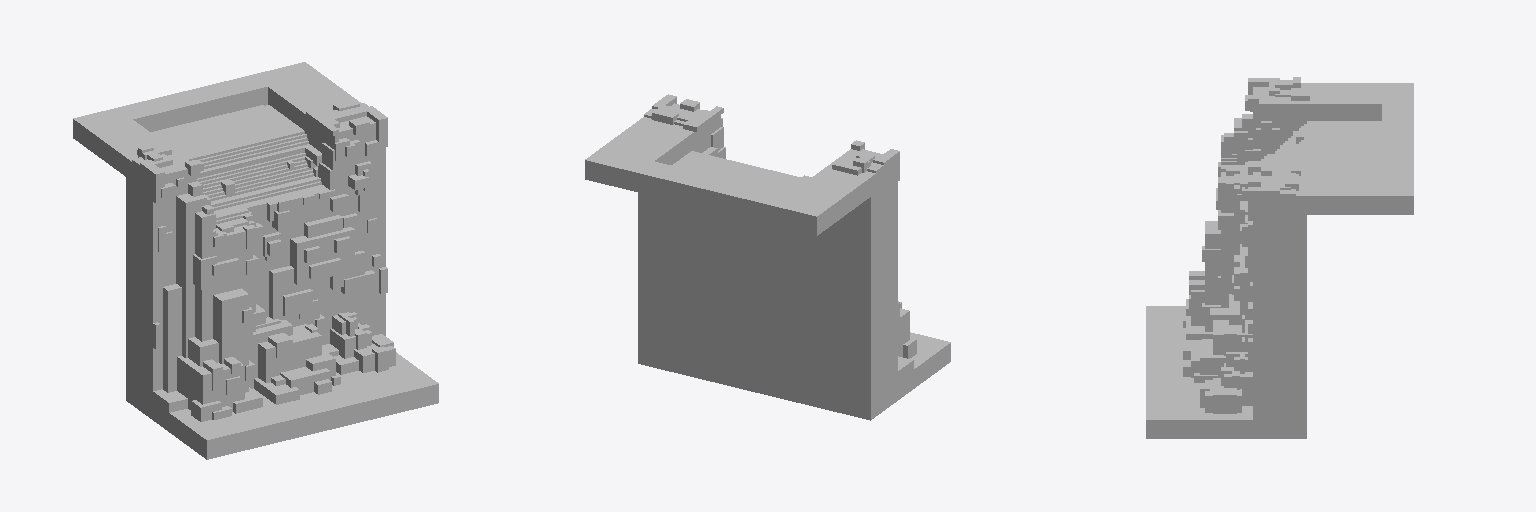
The model's file is Avalanche-1-Cliff 1.obj.
3 views of the same model, side by side, from view 1: azimuth 30°, elevation 25°; view 2: azimuth 150°, elevation 25°; view 3: azimuth 270°, elevation 25° (orthographic).
Parts seen in each view (by area): view 1: Cliff 1; view 2: Cliff 1; view 3: Cliff 1.
Part boxes in pixels (bbox=[...]): Cliff 1: bbox=[73, 62, 438, 459]; Cliff 1: bbox=[585, 94, 950, 420]; Cliff 1: bbox=[1146, 77, 1413, 438].
Size of the model in its own units: 10 by 10.4 by 10.